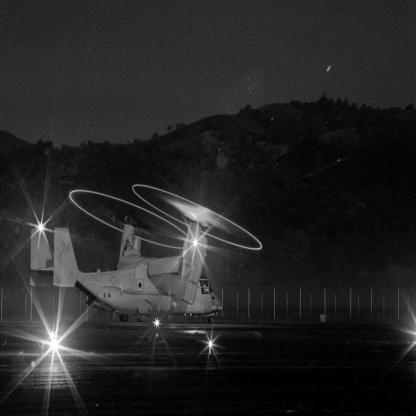V22: (30, 185, 263, 325)
